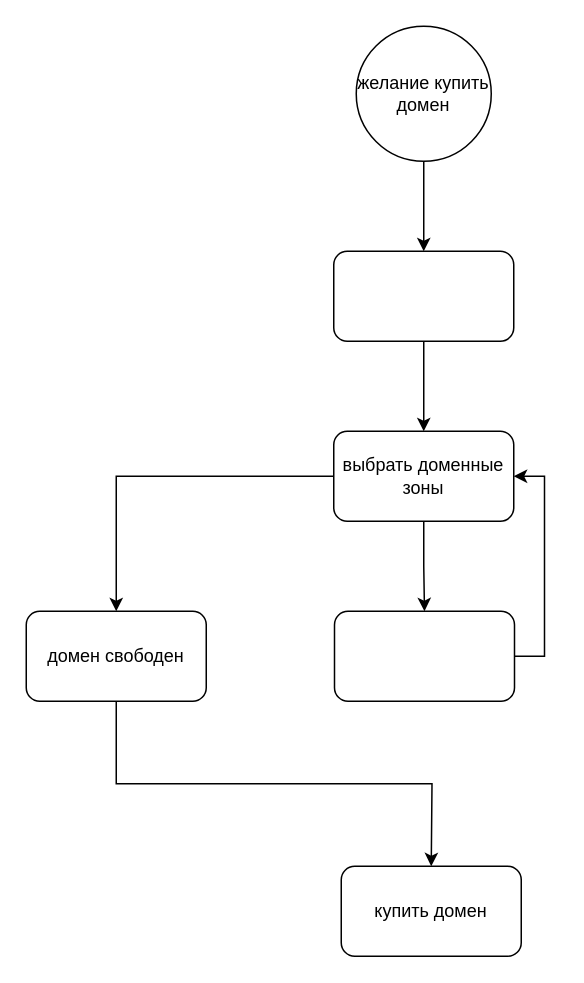
This 584x983 diagram has some shape labels left out. Here are the shapes that lost their labels. From the top down, the centre of each, then its label:
At point 423,295: "ввести доменное имя".
At point 423,655: "домен занят".
